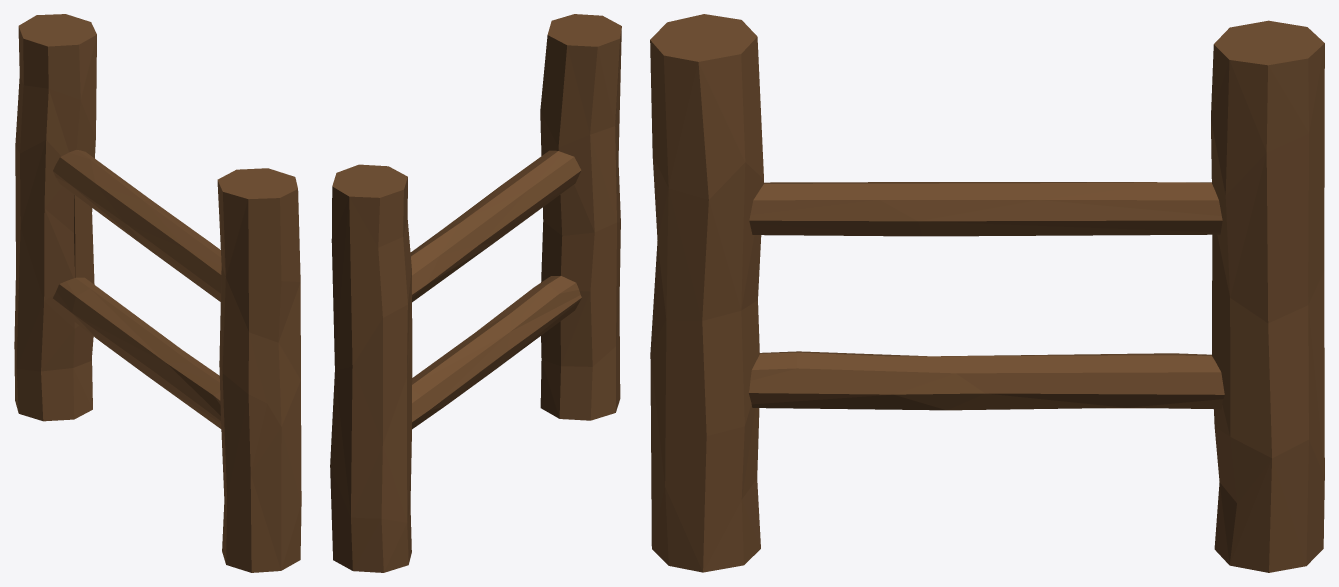
The model's file is fence_middle.glb.
3 views of the same model, side by side, from view 1: azimuth 30°, elevation 25°; view 2: azimuth 150°, elevation 25°; view 3: azimuth 270°, elevation 25° (orthographic). The views are drawn at different scales.
Visible parts, largest first — view 1: Cylinder.004; view 2: Cylinder.004; view 3: Cylinder.004.
Boxes of the visible parts, <box> form: Cylinder.004: <box>14,14,301,572</box>; Cylinder.004: <box>330,14,621,572</box>; Cylinder.004: <box>650,14,1324,572</box>.
Bounding box in the file's own units: 0.216 × 1 × 1.2.
